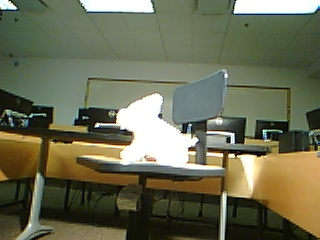piggy: (115, 91, 199, 166)
